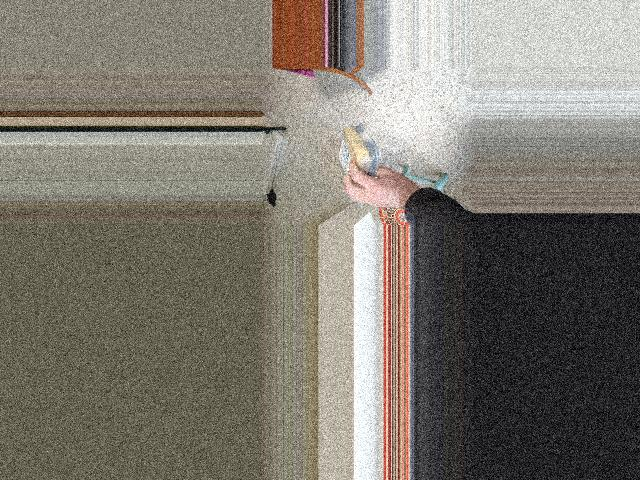cheese: (334, 121, 380, 197)
